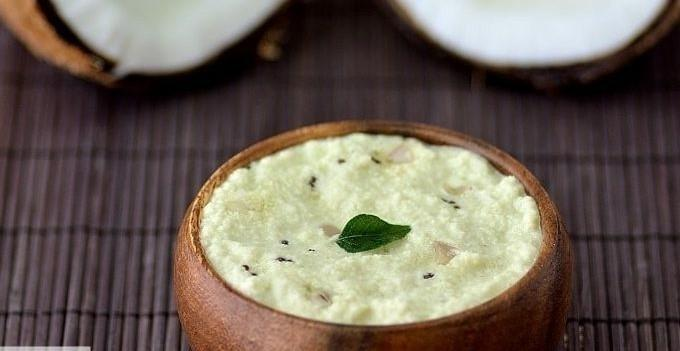CoconutChutney: (197, 130, 541, 323)
